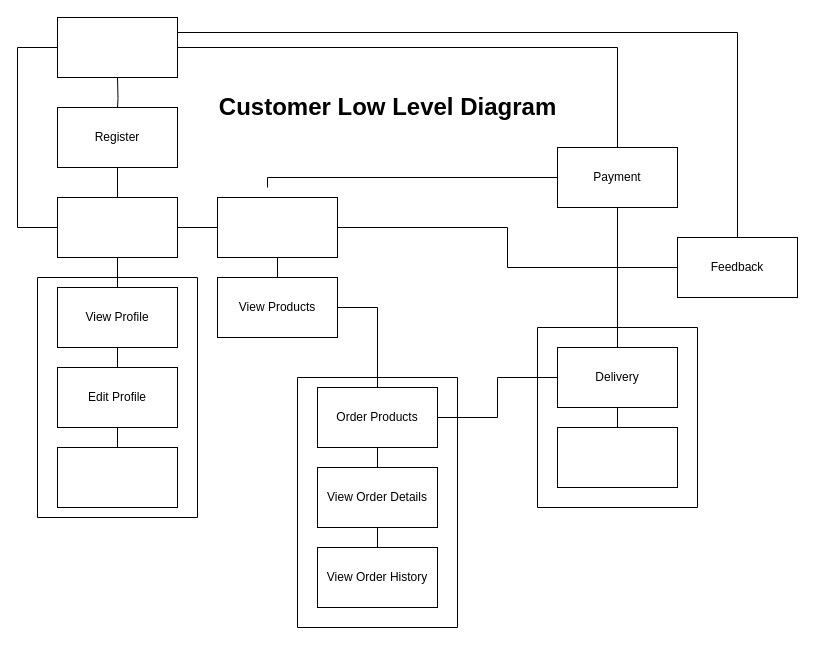
Some shapes in this 815 by 645 pixel diagram are drawn without their labels. The centre of each missing label's shape, as x and y in pixels:
Customer: point 117,47
Deactivate Profile: point 117,477
Delivery Details: point 617,457
Login: point 117,227
Shop: point 277,227
